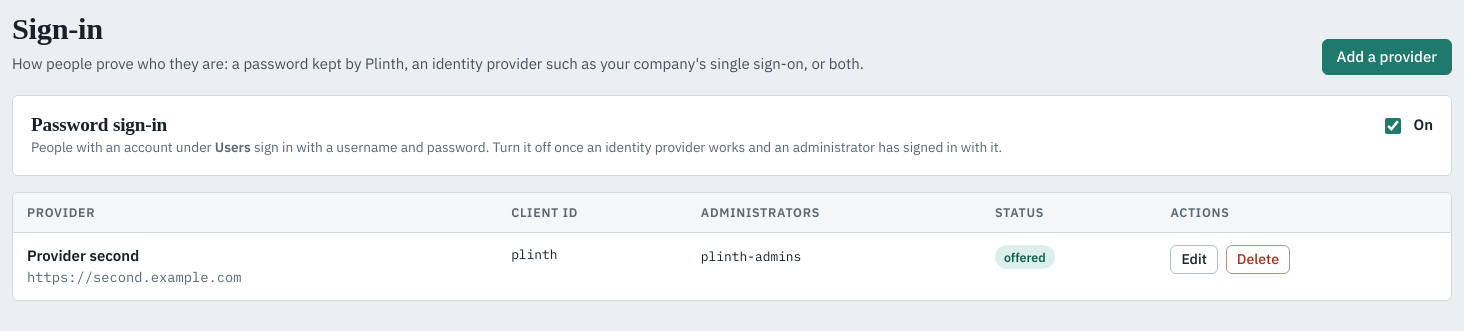
Test case: sign-in settings page › deletes after confirmation and explains a refusal
Click the button "Delete" at point(1258, 259), box [1226,245,1290,274]
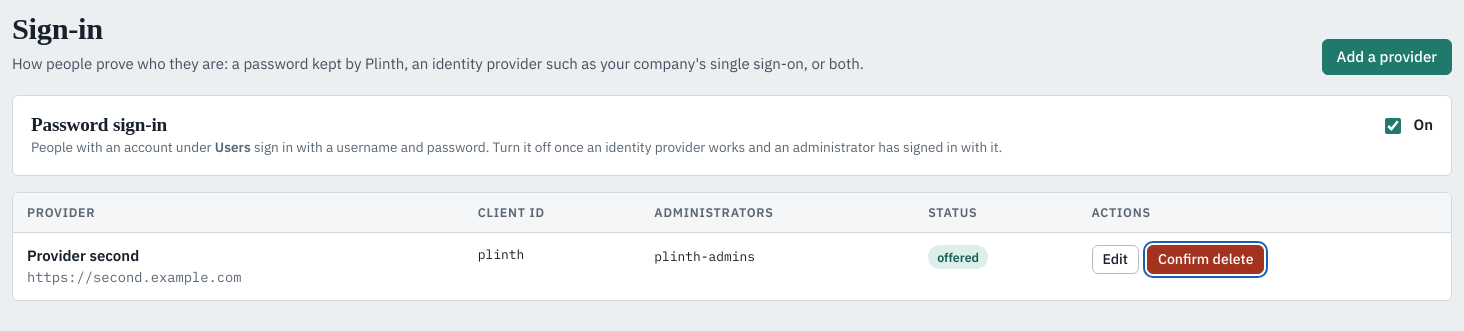
Click the button "Confirm delete" at point(1206, 259), box [1147,245,1264,274]
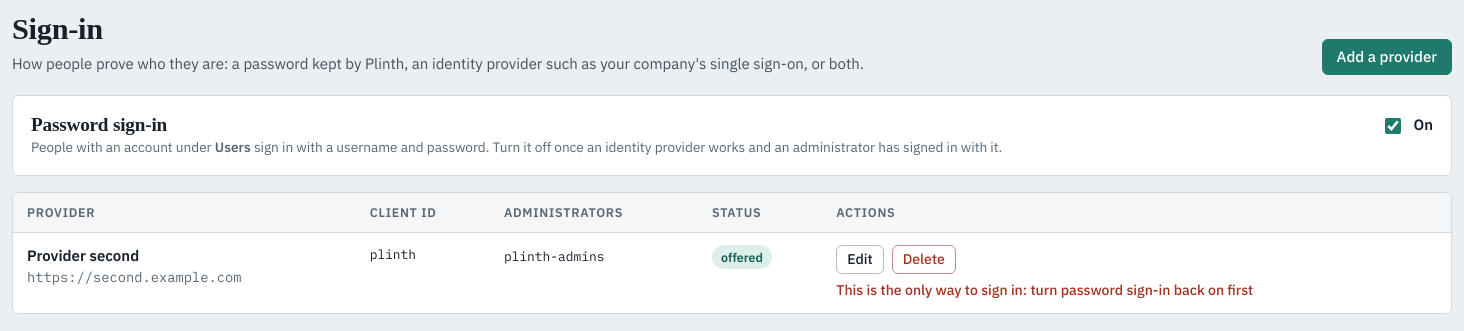
Result: the message shows "only way to sign in" at [836,280,1253,298]
